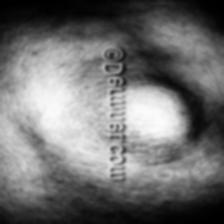Unclassified: (132, 64, 197, 160), (64, 61, 102, 154)
